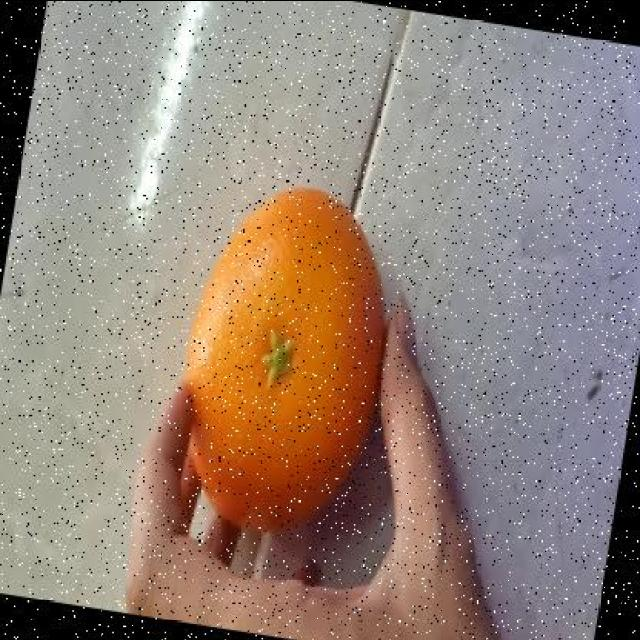Orange: (180, 186, 384, 534)
